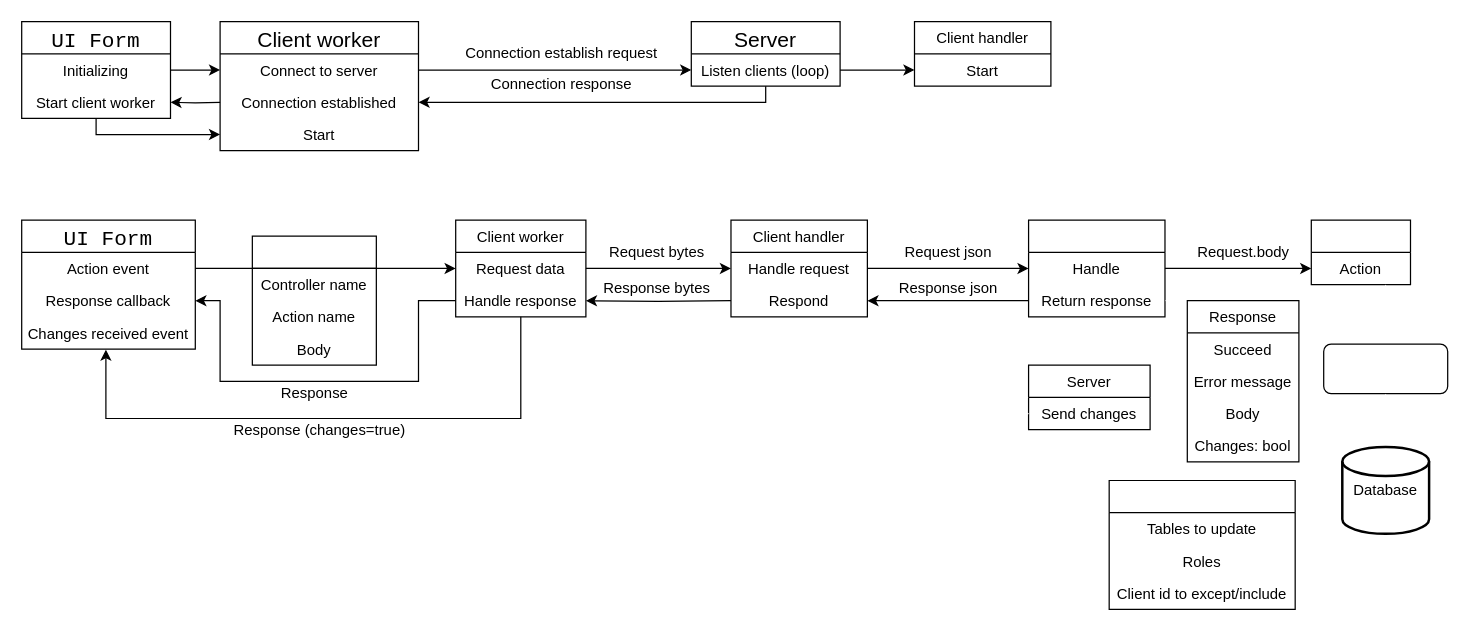
Some shapes in this 1469 by 635 pixel diagram are drawn without their labels. The shapes that lost their labels are listed below. From the top down, each one's box as (x1, y1, x2, y2) in pixels, then its label:
(1027, 219, 1165, 317): Request handler
(1310, 219, 1410, 285): Controller
(251, 235, 376, 365): Request
(1322, 343, 1448, 394): Data repository
(1108, 479, 1295, 609): Changes event
